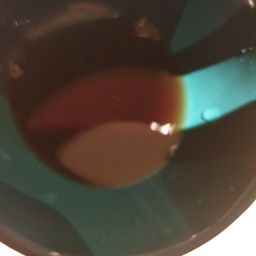Balsamic vinegar: (29, 23, 173, 184), (59, 57, 201, 188)
